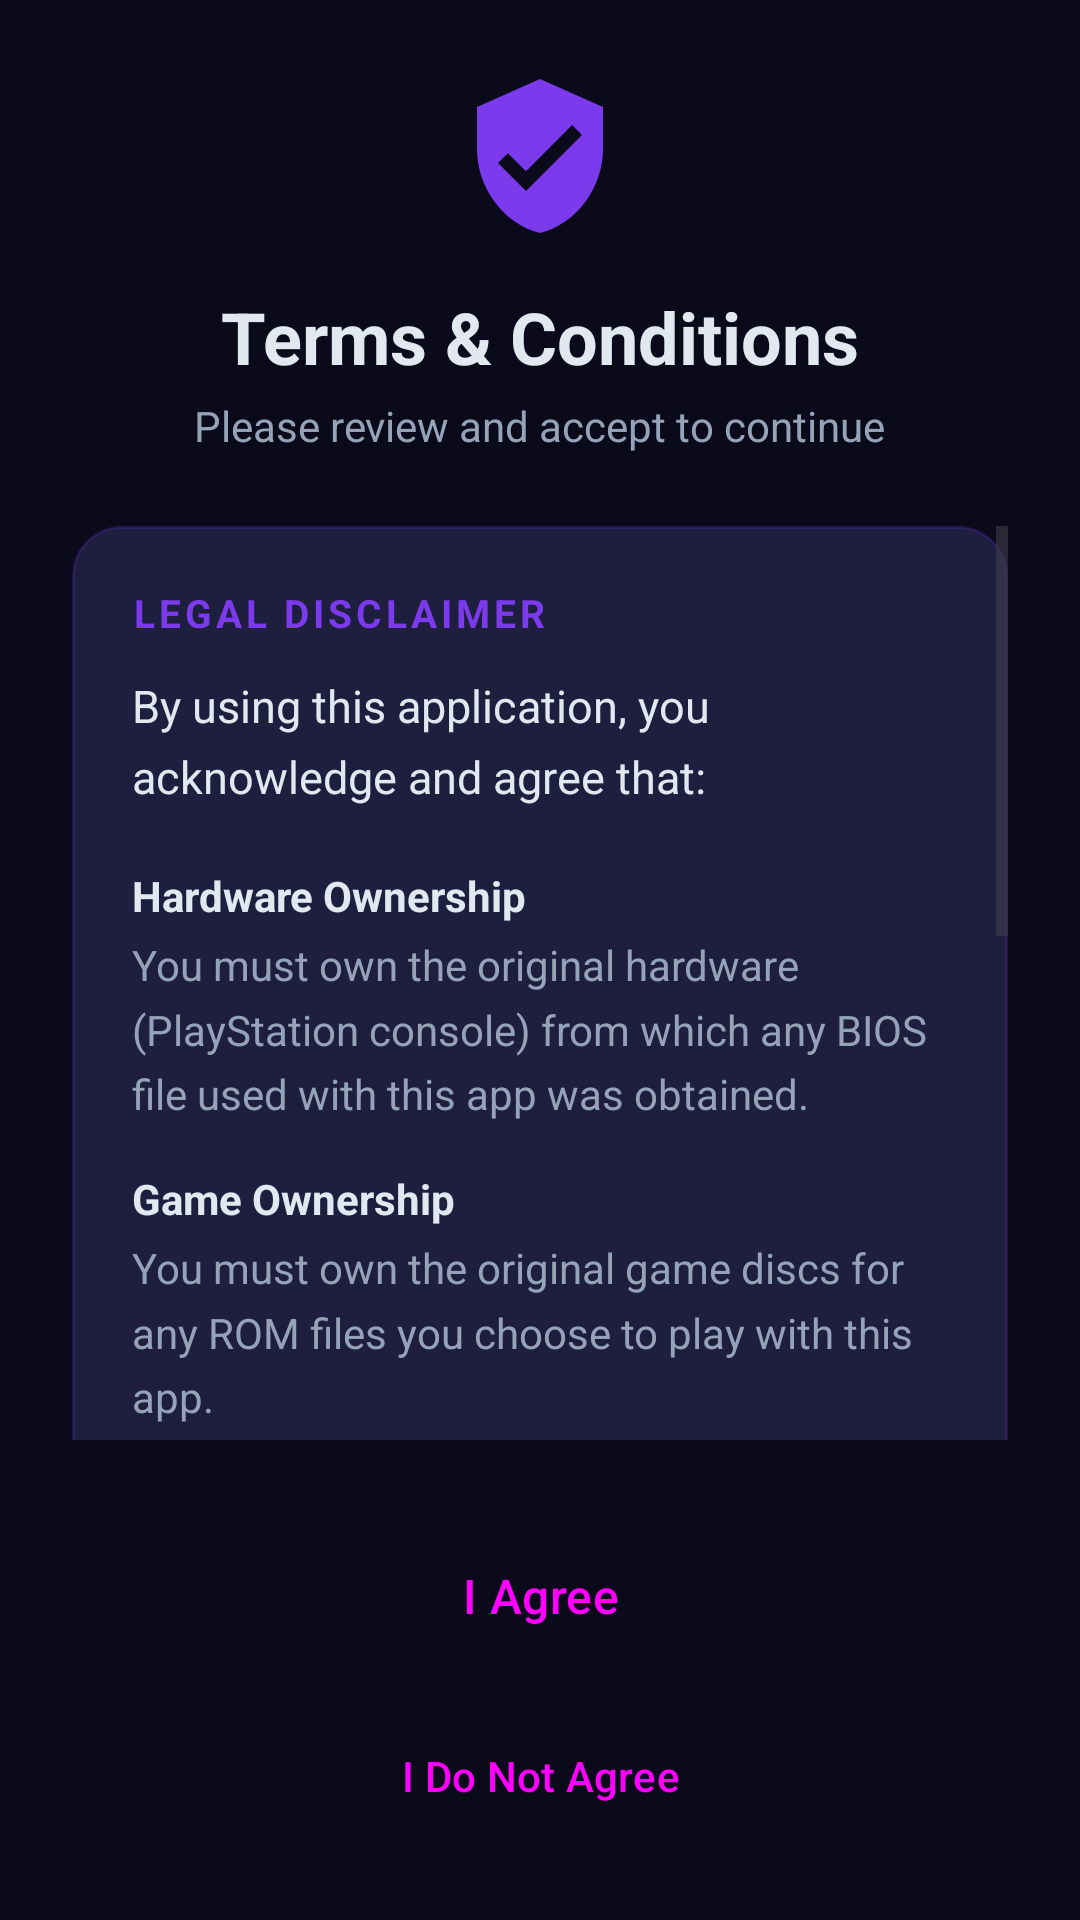

Where icons sit on this 1080*1920 app screen, as bbox=[x1, y1, x2, y2]:
shield: bbox=[477, 79, 603, 233]
